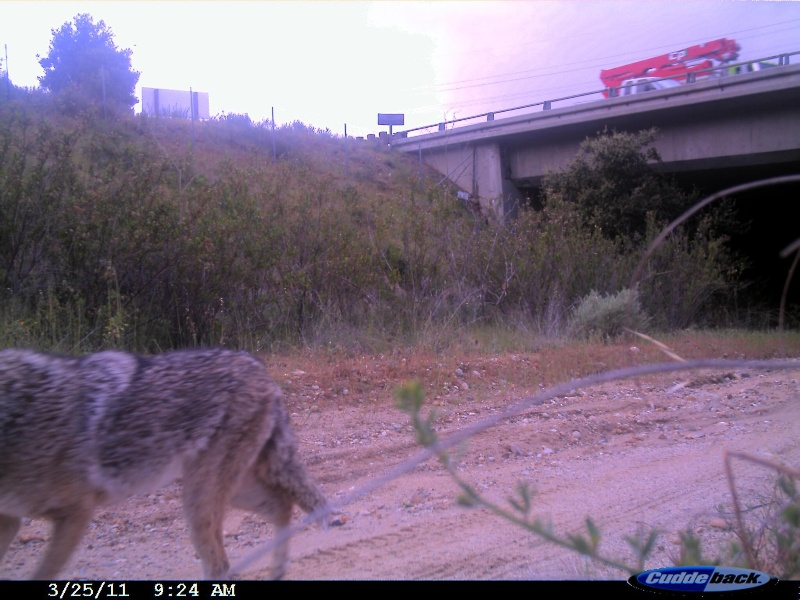coyote: (1, 339, 343, 578)
